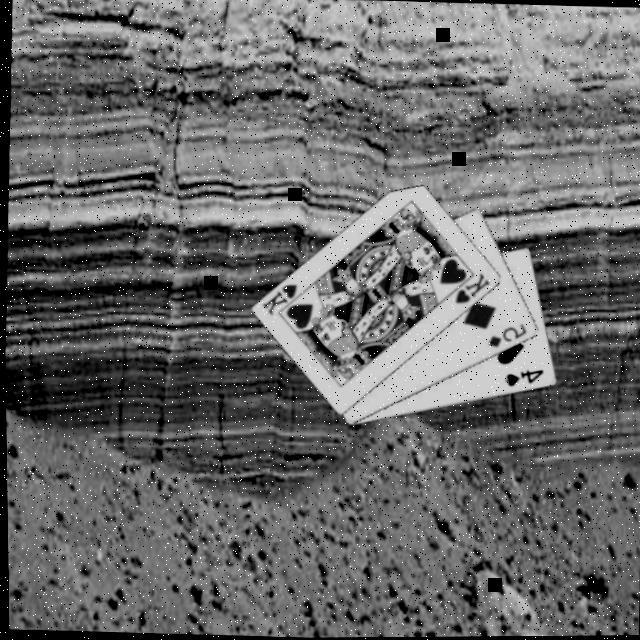4S: (501, 364, 546, 389)
5D: (484, 318, 530, 350)
KH: (259, 278, 300, 317), (452, 267, 492, 306)
